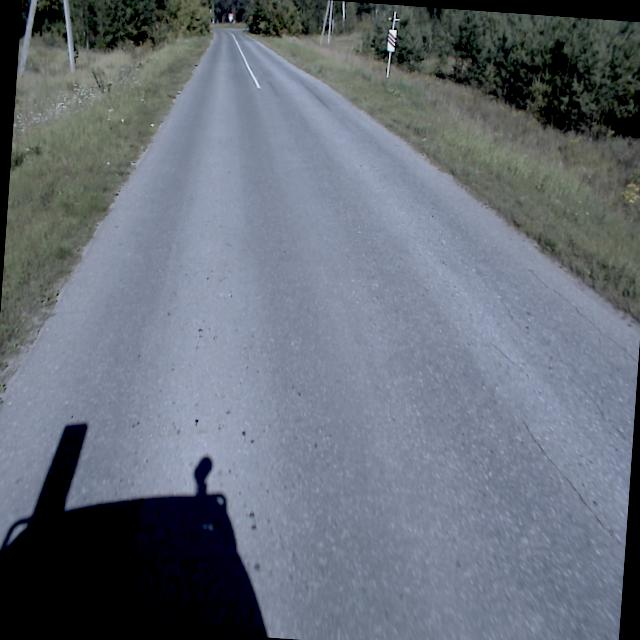road: (0, 28, 640, 640)
